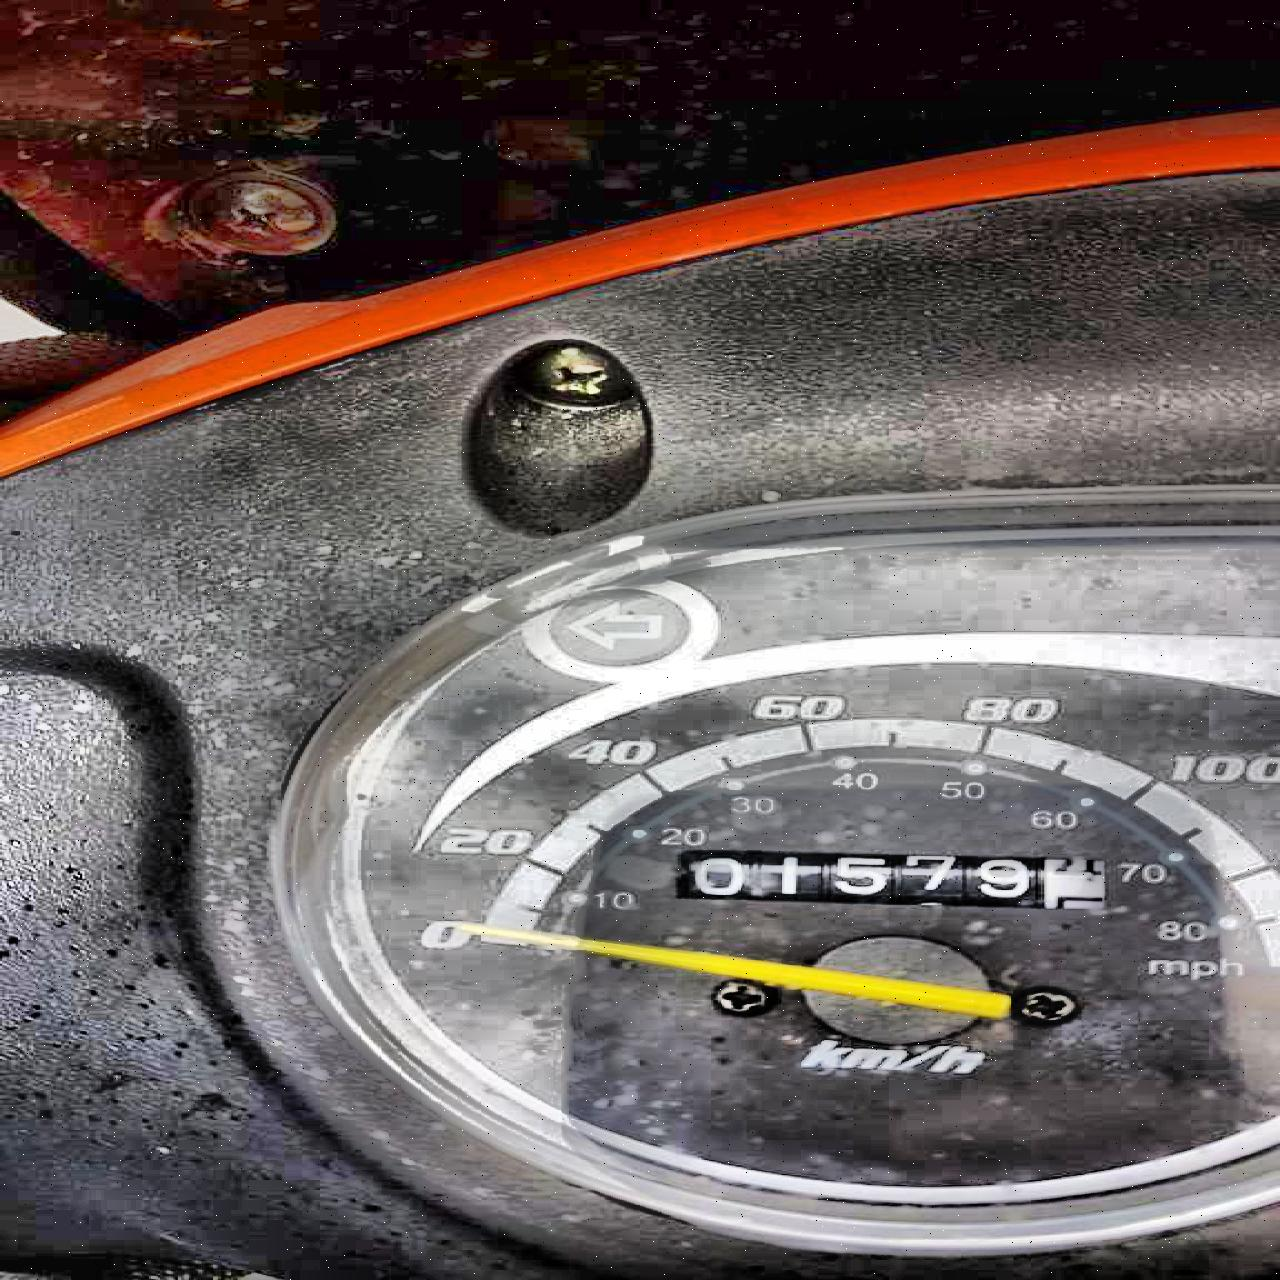0: (689, 856, 742, 896)
1: (771, 855, 805, 896)
4: (1047, 858, 1104, 883)
5: (831, 855, 887, 894), (1044, 892, 1104, 908)
7: (900, 853, 958, 891)
9: (973, 857, 1032, 898)
odometer: (662, 843, 1116, 912)
